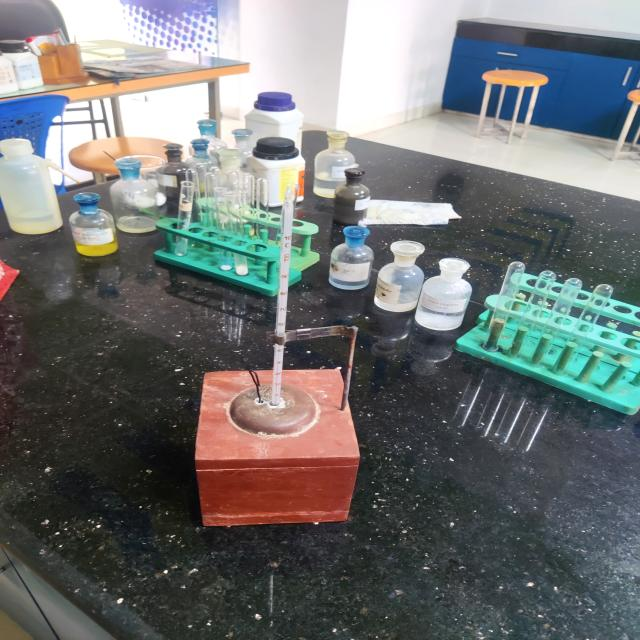Calorimeter: (171, 168, 390, 549)
